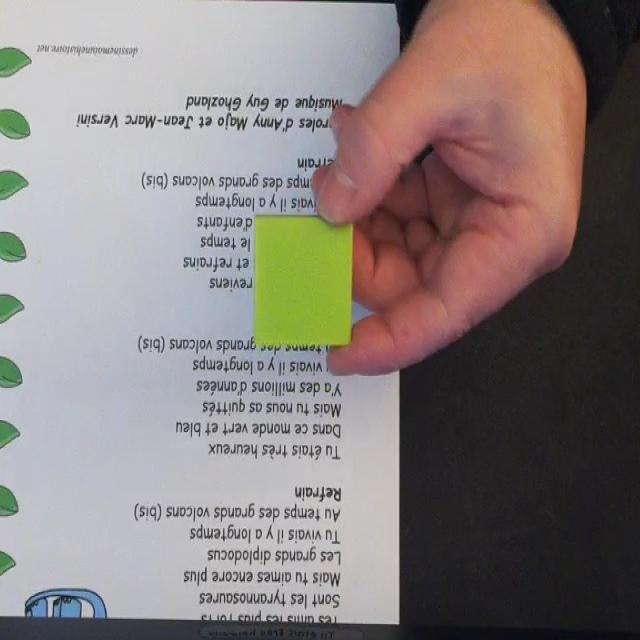square: (252, 214, 353, 348)
